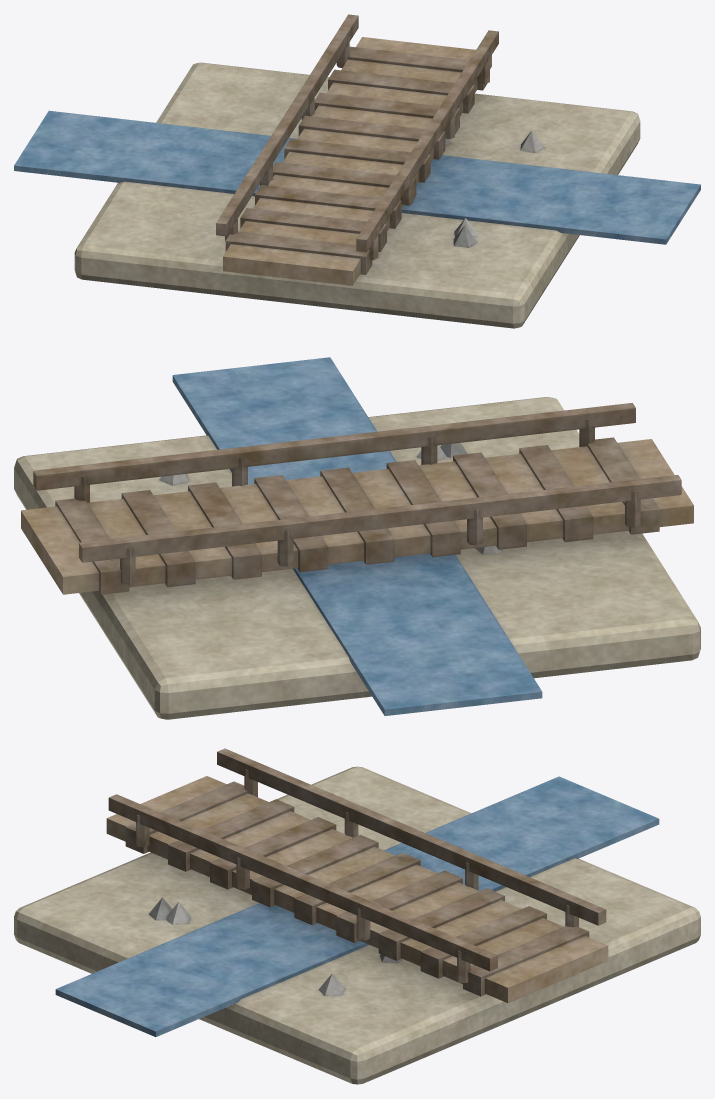
Rendered from bridge_c.glb.
The picture shows the model from 3 angles, top to bottom: view 1: azimuth 30°, elevation 25°; view 2: azimuth 150°, elevation 25°; view 3: azimuth 270°, elevation 25°; orthographic projection. The views are drawn at different scales.
Visible parts, largest first — view 1: dilek; view 2: dilek; view 3: dilek.
Boxes of the visible parts, left/top/right/bottom form: dilek: left=14, top=14, right=700, bottom=328; dilek: left=14, top=357, right=700, bottom=719; dilek: left=14, top=748, right=700, bottom=1084.
Bounding box in the file's own units: 2.42 × 0.35 × 2.42.
1 material, 1 textured.
